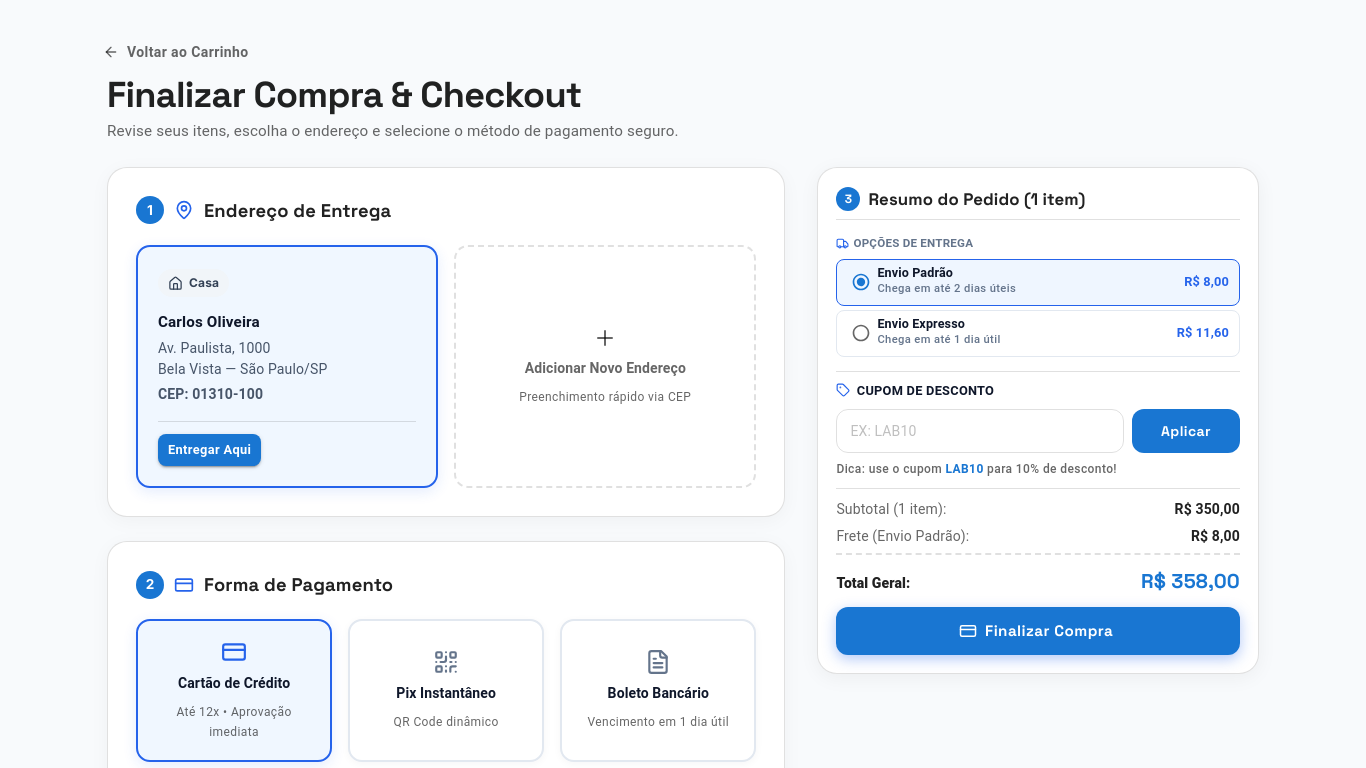
Test: CheckoutPage - Integração do Funil E2E › permite aplicar cupom LAB10 no resumo e recalcular o total
Expected: the heading "Finalizar Compra & Checkout" is shown, [107,72,582,118]
Type "LAB10" into the field with placeholder "Ex: LAB10" at (980, 431), box [836,412,1124,450]
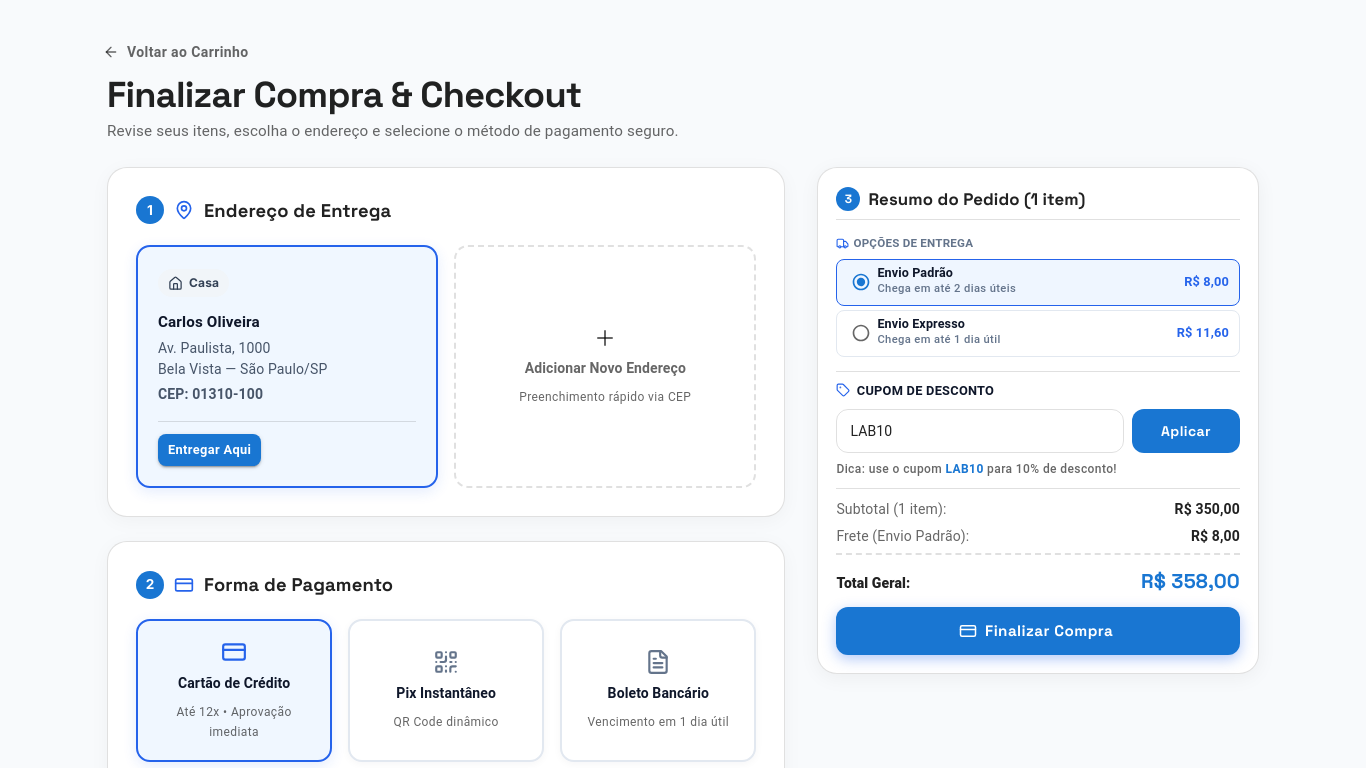
Click the button "Aplicar" at (1186, 431), box [1132,409,1240,453]
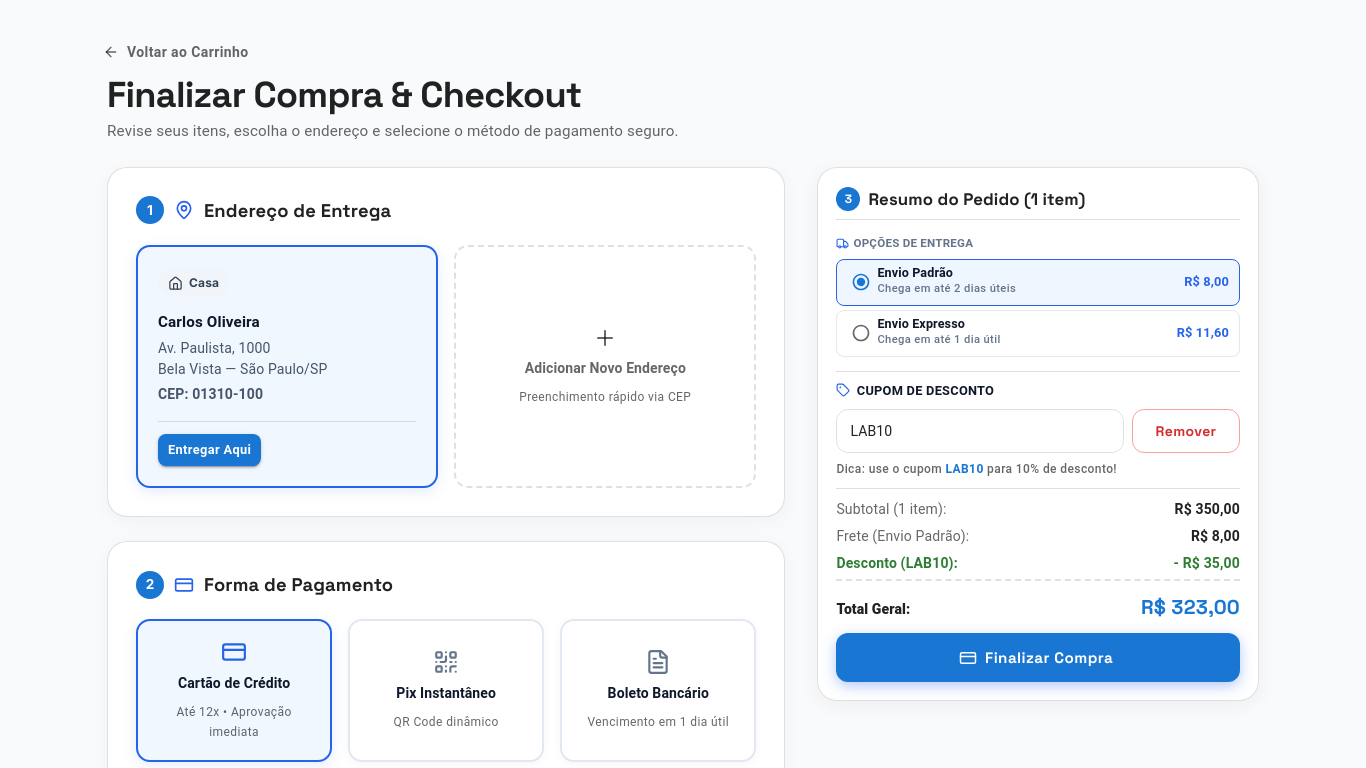
Expected: the button "Remover" is shown, [1132,409,1240,453]
Expected: the text "Desconto (LAB10):" is shown, [836,552,958,572]
